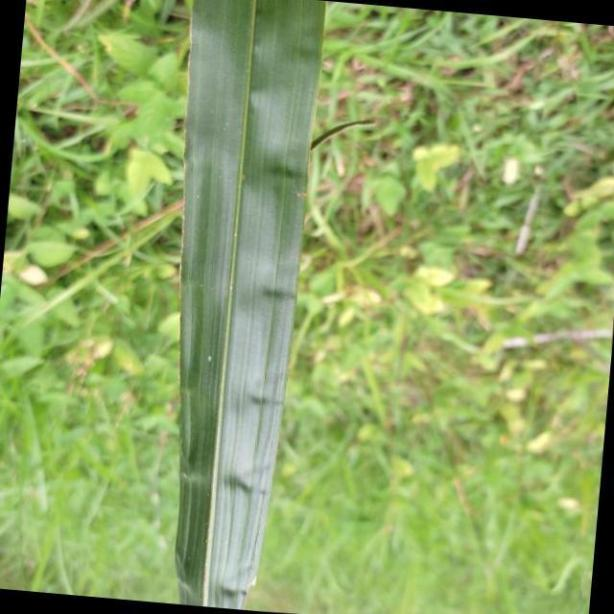Boron: (178, 0, 322, 614)
